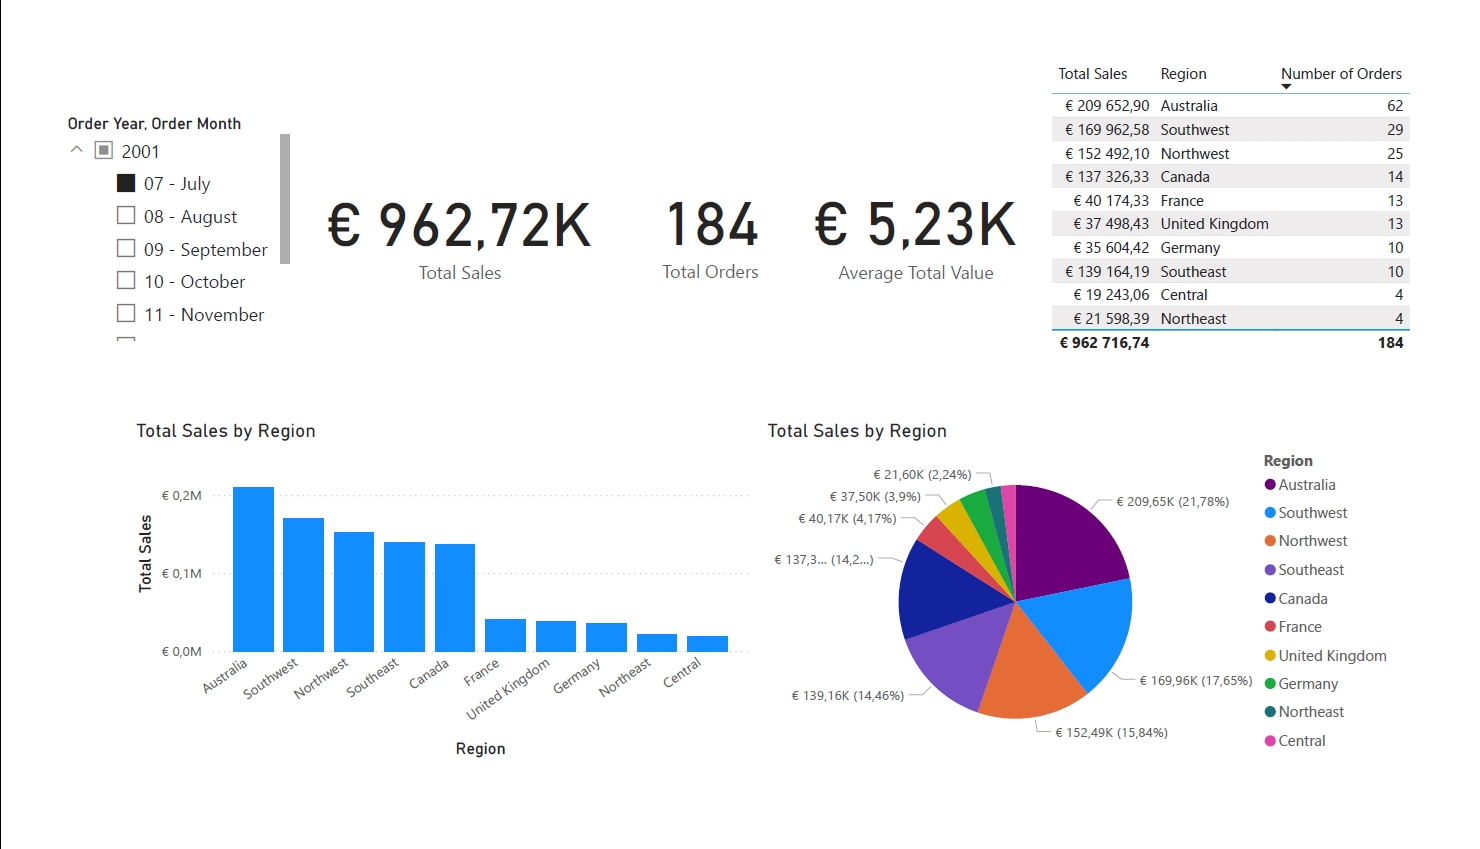

The dashboard page shown, as its layout file describes it:
{"tool":"powerbi","page":{"name":"tactical","canvas":[1280,720],"ordinal":2},"visuals":[{"type":"card","fields":{"Values":["Sales SalesOrderDetail.Total Sales"]},"box":[231.9,49.6,290.9,246.7],"z":0},{"type":"slicer","fields":{"Values":["Sales SalesOrderHeader.OrderYear","Sales SalesOrderHeader.OrderMonth"]},"box":[15.8,66.9,215.2,211.6],"z":1000},{"type":"card","fields":{"Values":["Sales SalesOrderHeader.Total Orders"]},"box":[521.2,50.2,159.3,245.6],"z":2000},{"type":"card","fields":{"Values":["Sales SalesOrderDetail.Average Total Value"]},"box":[680.3,50.2,206.7,245.6],"z":3000},{"type":"clusteredColumnChart","fields":{"Category":["Sales SalesTerritory.Name"],"Y":["Sum(Sales SalesOrderDetail.LineTotal)"]},"box":[85.1,342.9,554.4,306.4],"z":4000},{"type":"tableEx","fields":{"Values":["Sum(Sales SalesOrderDetail.LineTotal)","Sales SalesTerritory.Name","Sales SalesOrderHeader.Number of Orders"]},"box":[898.5,19.8,368.4,306.4],"z":5000},{"type":"pieChart","fields":{"Category":["Sales SalesTerritory.Name"],"Y":["Sales SalesOrderDetail.Total Sales"]},"box":[646.8,342.9,570.2,306.4],"z":6000}]}

Visuals, with their boxes in screenshot pixels (x1, y1, x2, y2), scaled from the page's 1280x720 canvas onto the 1480x849 screenshot:
card - Sales SalesOrderDetail.Total Sales: locate(268, 58, 604, 349)
slicer - Sales SalesOrderHeader.OrderYear x Sales SalesOrderHeader.OrderMonth: locate(18, 79, 267, 328)
card - Sales SalesOrderHeader.Total Orders: locate(603, 59, 787, 349)
card - Sales SalesOrderDetail.Average Total Value: locate(787, 59, 1026, 349)
clusteredColumnChart - Sales SalesTerritory.Name x Sum(Sales SalesOrderDetail.LineTotal): locate(98, 404, 739, 766)
tableEx - Sum(Sales SalesOrderDetail.LineTotal) x Sales SalesTerritory.Name: locate(1039, 23, 1465, 385)
pieChart - Sales SalesTerritory.Name x Sales SalesOrderDetail.Total Sales: locate(748, 404, 1407, 766)
